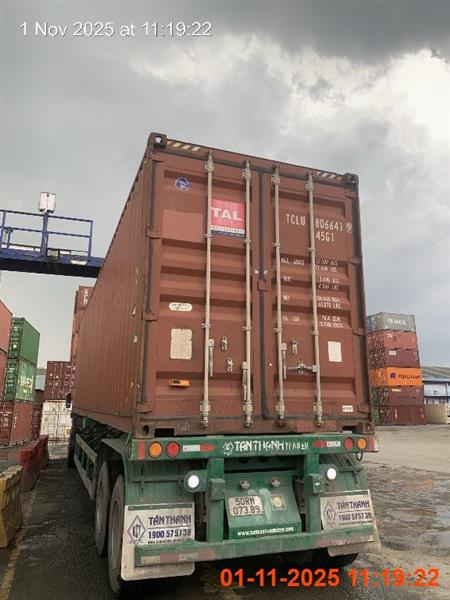broken: (64, 133, 381, 598)
